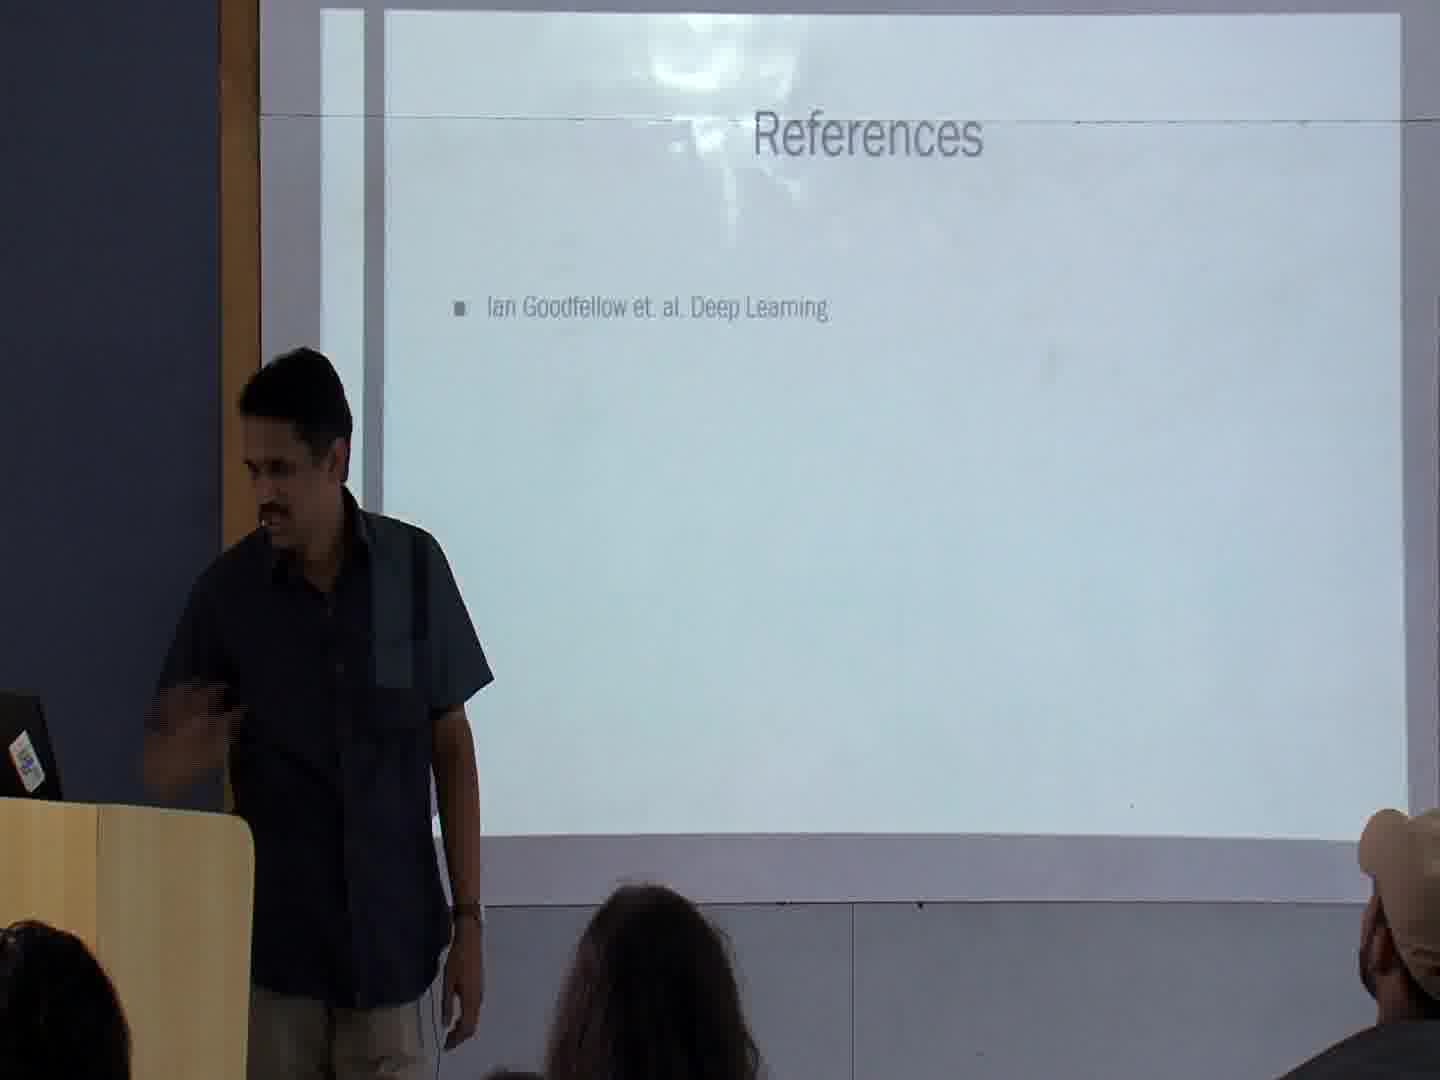slide: (317, 9, 1405, 843)
